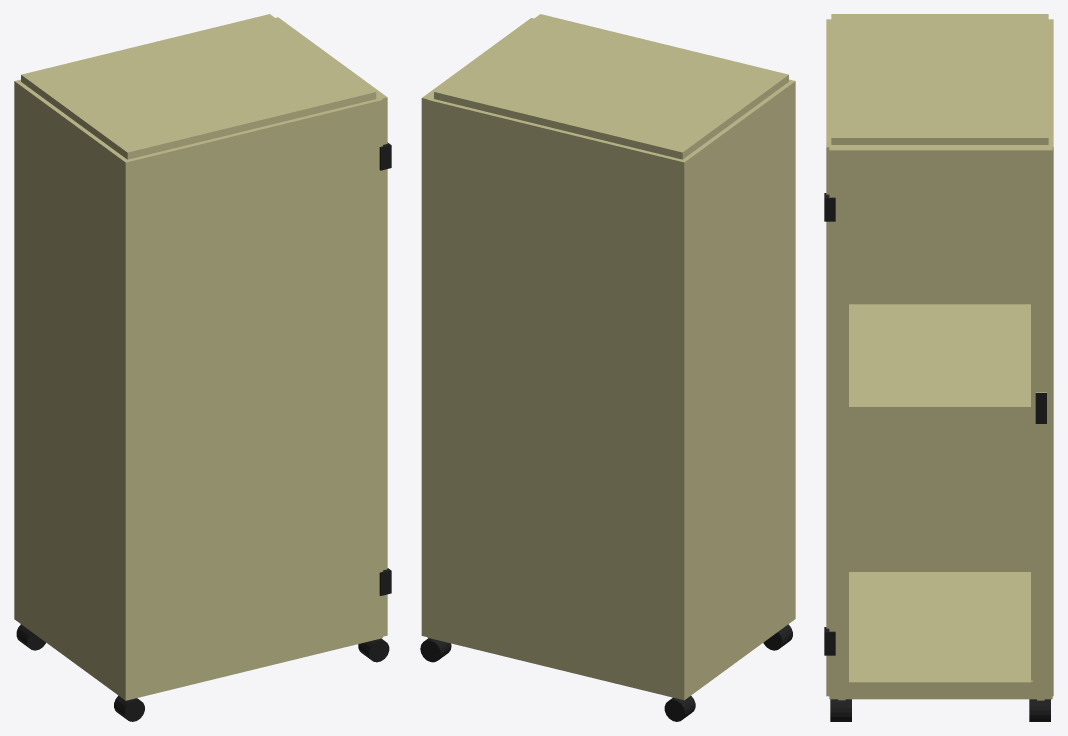
The model's file is EstanteFondoChico.fbx.
3 views of the same model, side by side, from view 1: azimuth 30°, elevation 25°; view 2: azimuth 150°, elevation 25°; view 3: azimuth 270°, elevation 25° (orthographic). The views are drawn at different scales.
Visible parts, largest first — view 1: Cylinder.001; view 2: Cylinder.001; view 3: Cylinder.001.
Boxes of the visible parts, <box> form: Cylinder.001: <box>14,14,391,721</box>; Cylinder.001: <box>420,14,795,721</box>; Cylinder.001: <box>824,14,1053,721</box>.
Size of the model in its own units: 165 by 339 by 121.
